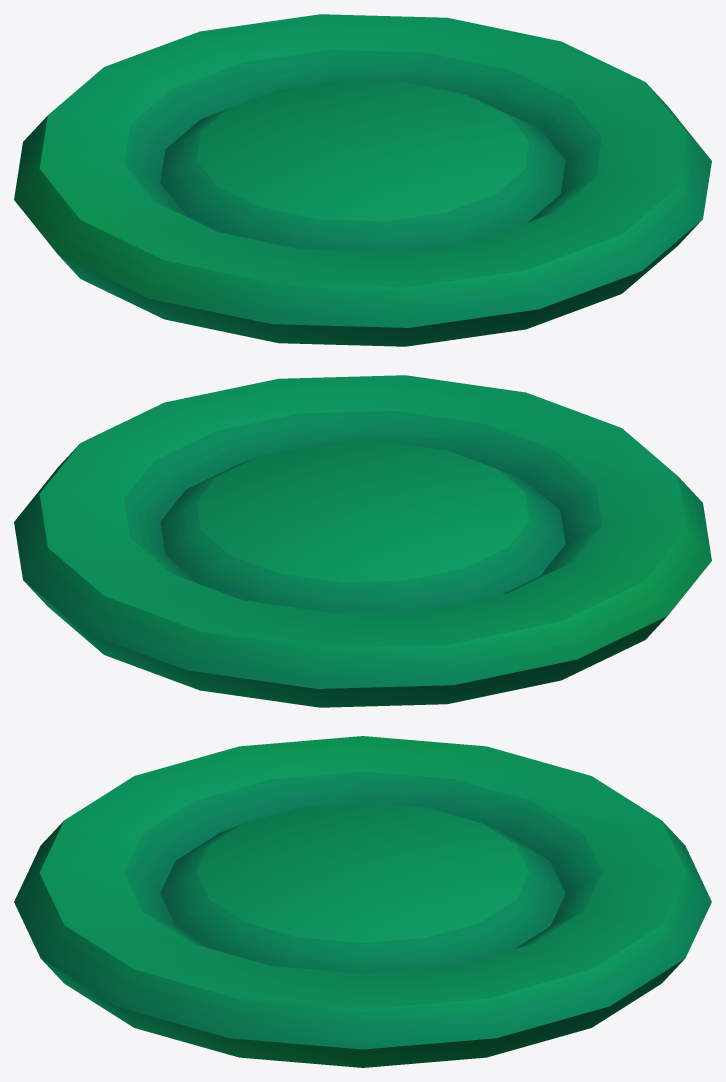
The model's file is board.token_green.glb.
3 renders of one model, top to bottom at view 1: azimuth 30°, elevation 25°; view 2: azimuth 150°, elevation 25°; view 3: azimuth 270°, elevation 25°, orthographic.
Visible parts, largest first — view 1: token_green; view 2: token_green; view 3: token_green.
Part boxes in pixels (bbox=[...]): token_green: bbox=[14, 14, 711, 346]; token_green: bbox=[14, 375, 711, 707]; token_green: bbox=[14, 736, 711, 1067].
Bounding box in the file's own units: 0.0288 × 0.00267 × 0.0288.
Materials: 1 (1 with a texture image).
